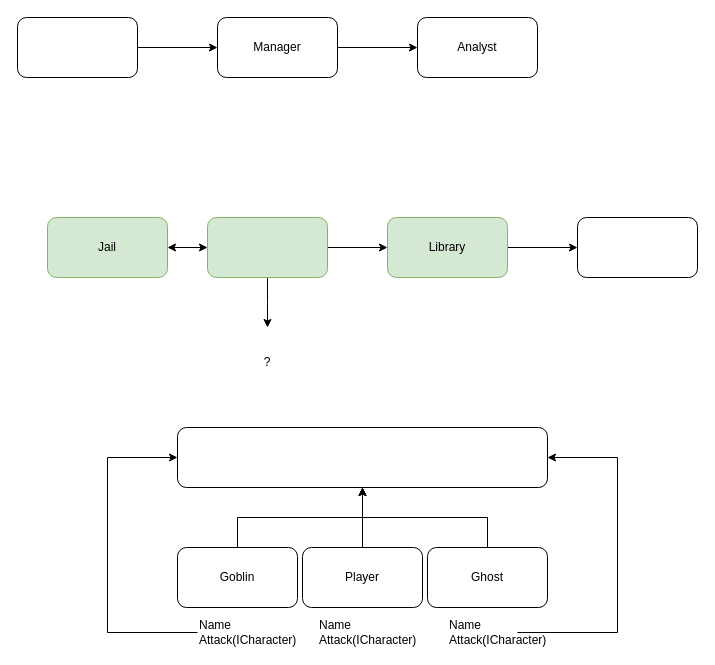
Image size: 715x665. Some labels were removed from this diagram. Here are the shapes that lost their labels. From the top down, the centre of each, then its label:
At pixel 77 47: "Director".
At pixel 267 247: "Entrance".
At pixel 637 247: "Treasure Room".
At pixel 362 457: "ICharacter".
